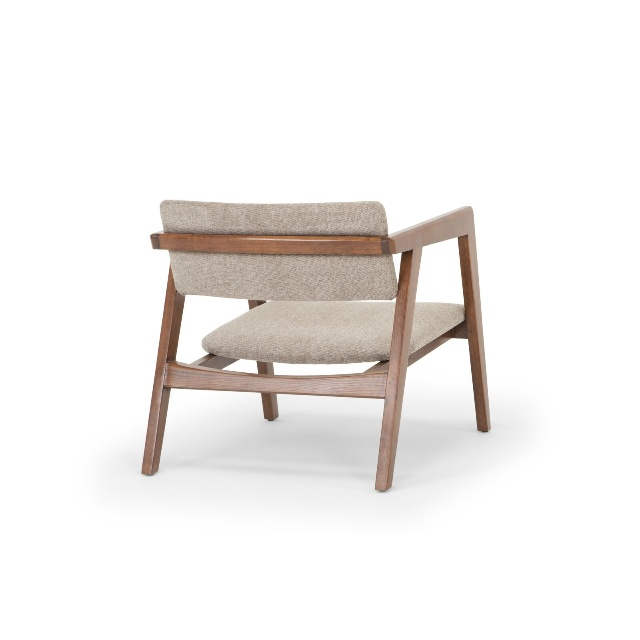obstacle: (142, 200, 489, 490)
